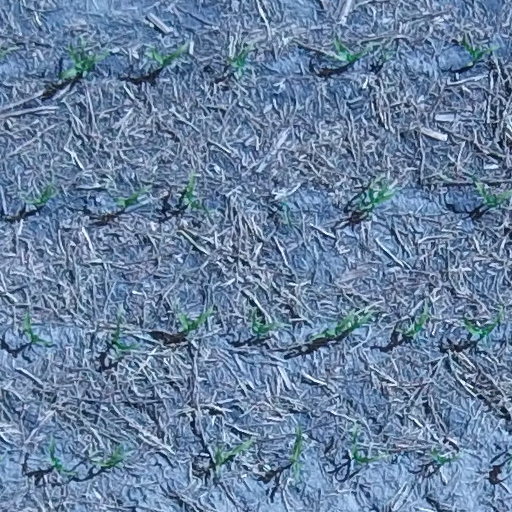planta: (56, 35, 112, 81), (310, 307, 376, 341), (460, 307, 505, 347), (354, 177, 400, 215), (347, 425, 382, 467), (179, 171, 213, 213), (44, 436, 78, 478), (212, 437, 255, 469), (331, 36, 376, 65), (20, 311, 53, 349), (175, 306, 216, 336), (142, 42, 187, 69), (248, 311, 288, 340), (92, 441, 132, 470), (287, 422, 306, 483), (459, 38, 500, 65), (110, 326, 143, 357), (402, 305, 431, 340), (24, 180, 59, 208), (111, 185, 148, 210), (226, 44, 252, 79), (428, 446, 461, 467)
